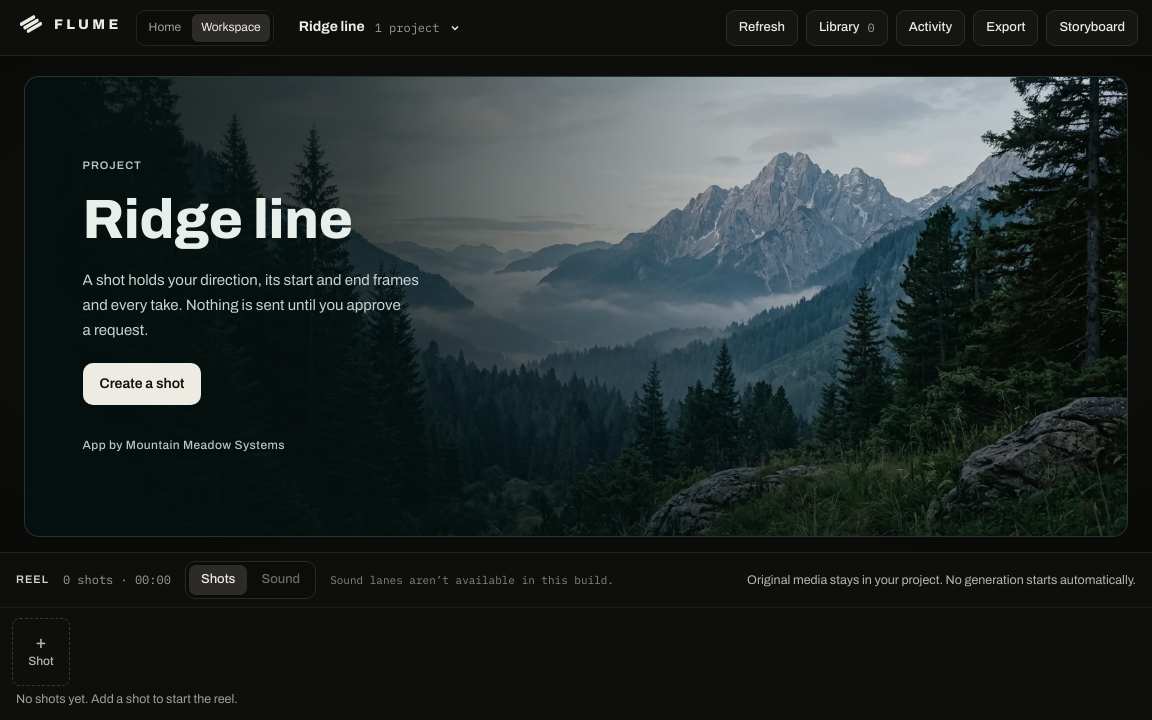
Test: an app with no saved shots offers the empty-state explanation instead of a file
Click the button "Export". click: (1006, 28)
box: x1=973 y1=10 x2=1038 y2=46
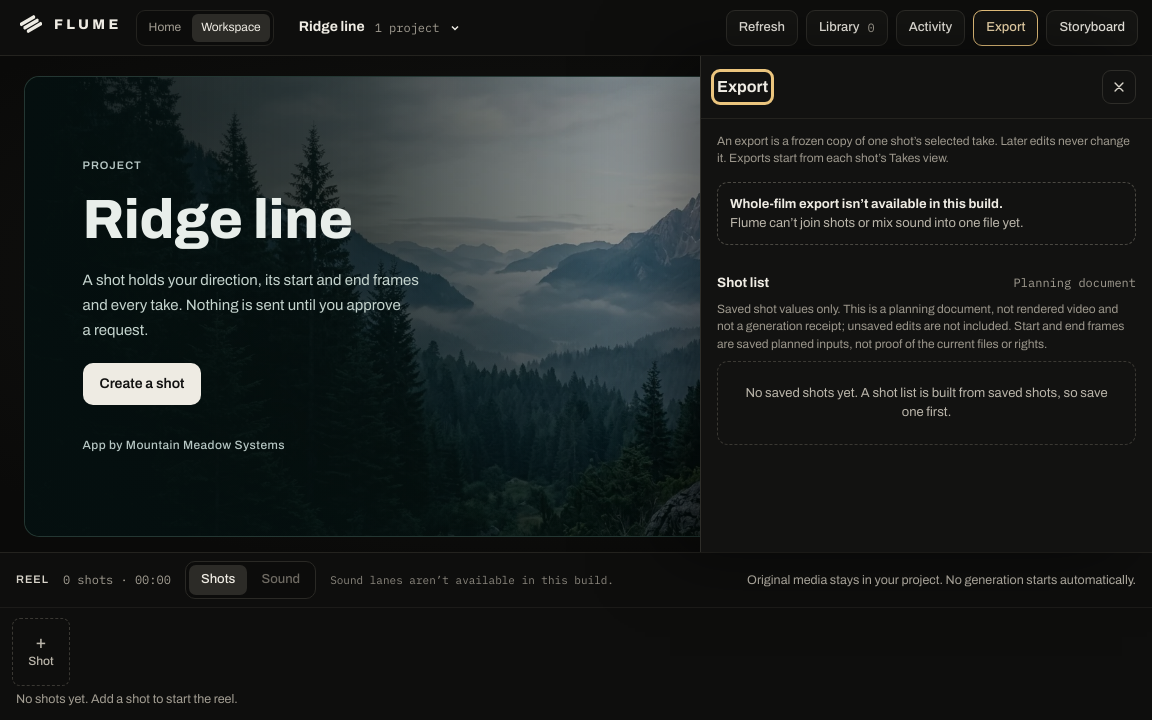
Expected: the element "Shot list" shows "No saved shots yet", x1=745 y1=386 x2=1108 y2=419
